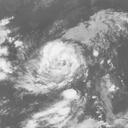cyclone: (30, 40, 83, 86)
